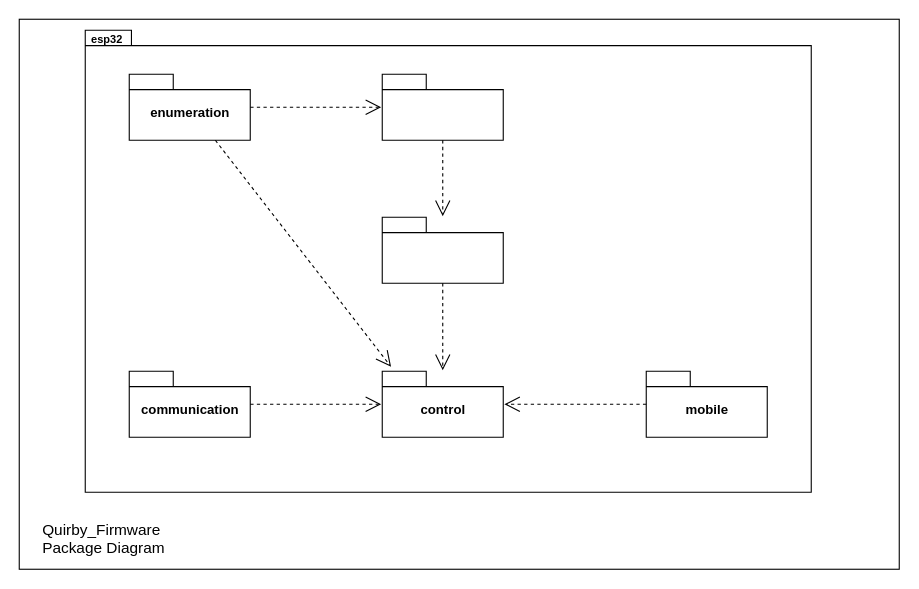
This 919x589 diagram has some shape labels left out. Each missing label, with the centre of its shape:
"drivers" goes at pixel 442 106.
"FSM" goes at pixel 442 249.
